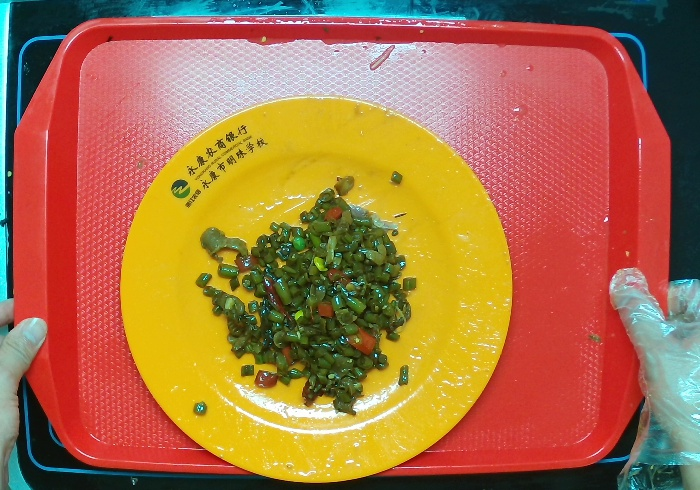YKMZ-Ju_Se_Mian_Pan: (108, 91, 533, 490)
